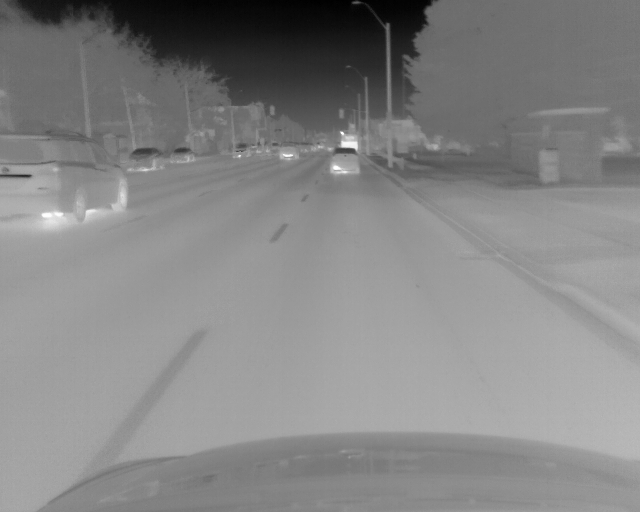car: (1, 129, 130, 224), (127, 147, 165, 172), (329, 147, 359, 175), (169, 148, 196, 165), (278, 142, 299, 161), (338, 130, 357, 151), (231, 142, 252, 159), (300, 141, 312, 153)
